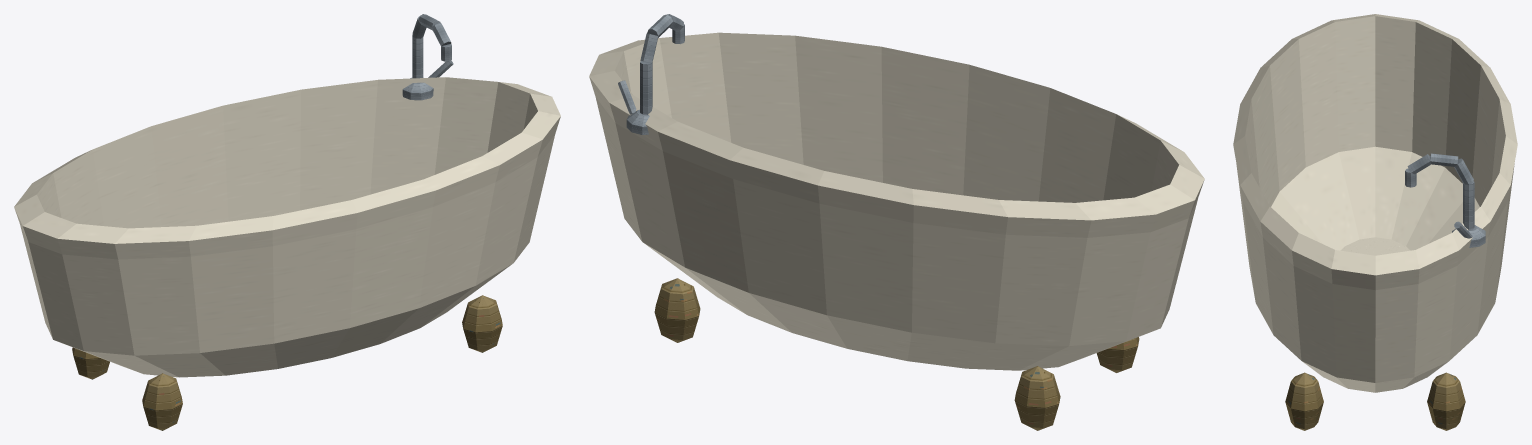
Rendered from MD_91_Bathtub.fbx.
3 renders of one model, left to right at view 1: azimuth 30°, elevation 25°; view 2: azimuth 150°, elevation 25°; view 3: azimuth 270°, elevation 25°, orthographic. The views are drawn at different scales.
Visible parts, largest first — view 1: MD_91_Bathtub_hollow_bathtub, MD_91_Bathtub_claw_foot.002, MD_91_Bathtub_claw_foot, MD_91_Bathtub_claw_foot.001; view 2: MD_91_Bathtub_hollow_bathtub, MD_91_Bathtub_claw_foot.001, MD_91_Bathtub_claw_foot.003, MD_91_Bathtub_claw_foot, MD_91_Bathtub_gooseneck_0; view 3: MD_91_Bathtub_hollow_bathtub, MD_91_Bathtub_claw_foot.002, MD_91_Bathtub_claw_foot.003, MD_91_Bathtub_gooseneck_0, MD_91_Bathtub_gooseneck_2, MD_91_Bathtub_faucet_mount, MD_91_Bathtub_gooseneck_1.
Boxes of the visible parts, x1,y1,x2,y2 form: MD_91_Bathtub_hollow_bathtub: (14,77,560,377); MD_91_Bathtub_claw_foot.002: (462,295,502,352); MD_91_Bathtub_claw_foot: (142,373,182,430); MD_91_Bathtub_claw_foot.001: (72,347,109,379); MD_91_Bathtub_hollow_bathtub: (589,32,1204,370); MD_91_Bathtub_claw_foot.001: (1014,366,1060,430); MD_91_Bathtub_claw_foot.003: (654,278,700,342); MD_91_Bathtub_claw_foot: (1096,337,1139,372); MD_91_Bathtub_gooseneck_0: (640,61,652,114); MD_91_Bathtub_hollow_bathtub: (1233,14,1517,392); MD_91_Bathtub_claw_foot.002: (1285,372,1323,430); MD_91_Bathtub_claw_foot.003: (1427,372,1465,430); MD_91_Bathtub_gooseneck_0: (1463,181,1474,229); MD_91_Bathtub_gooseneck_2: (1430,153,1458,166); MD_91_Bathtub_faucet_mount: (1452,225,1485,247); MD_91_Bathtub_gooseneck_1: (1454,158,1473,184).
Bounding box in the file's own units: 1.92 × 0.9779 × 0.8832.
3 materials, 3 textured.
